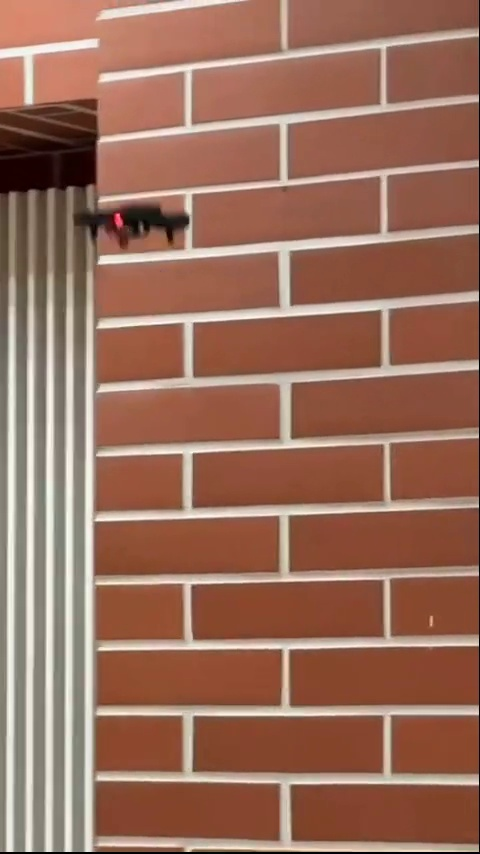drone: (73, 206, 196, 244)
